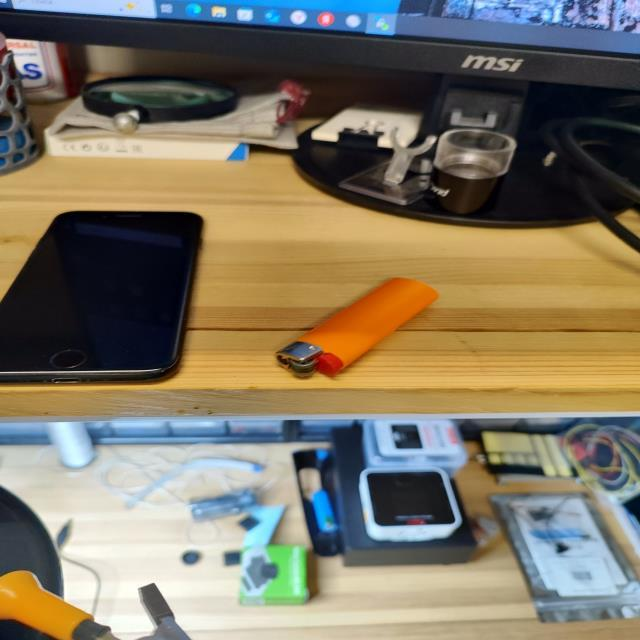lighter: (276, 280, 437, 377)
